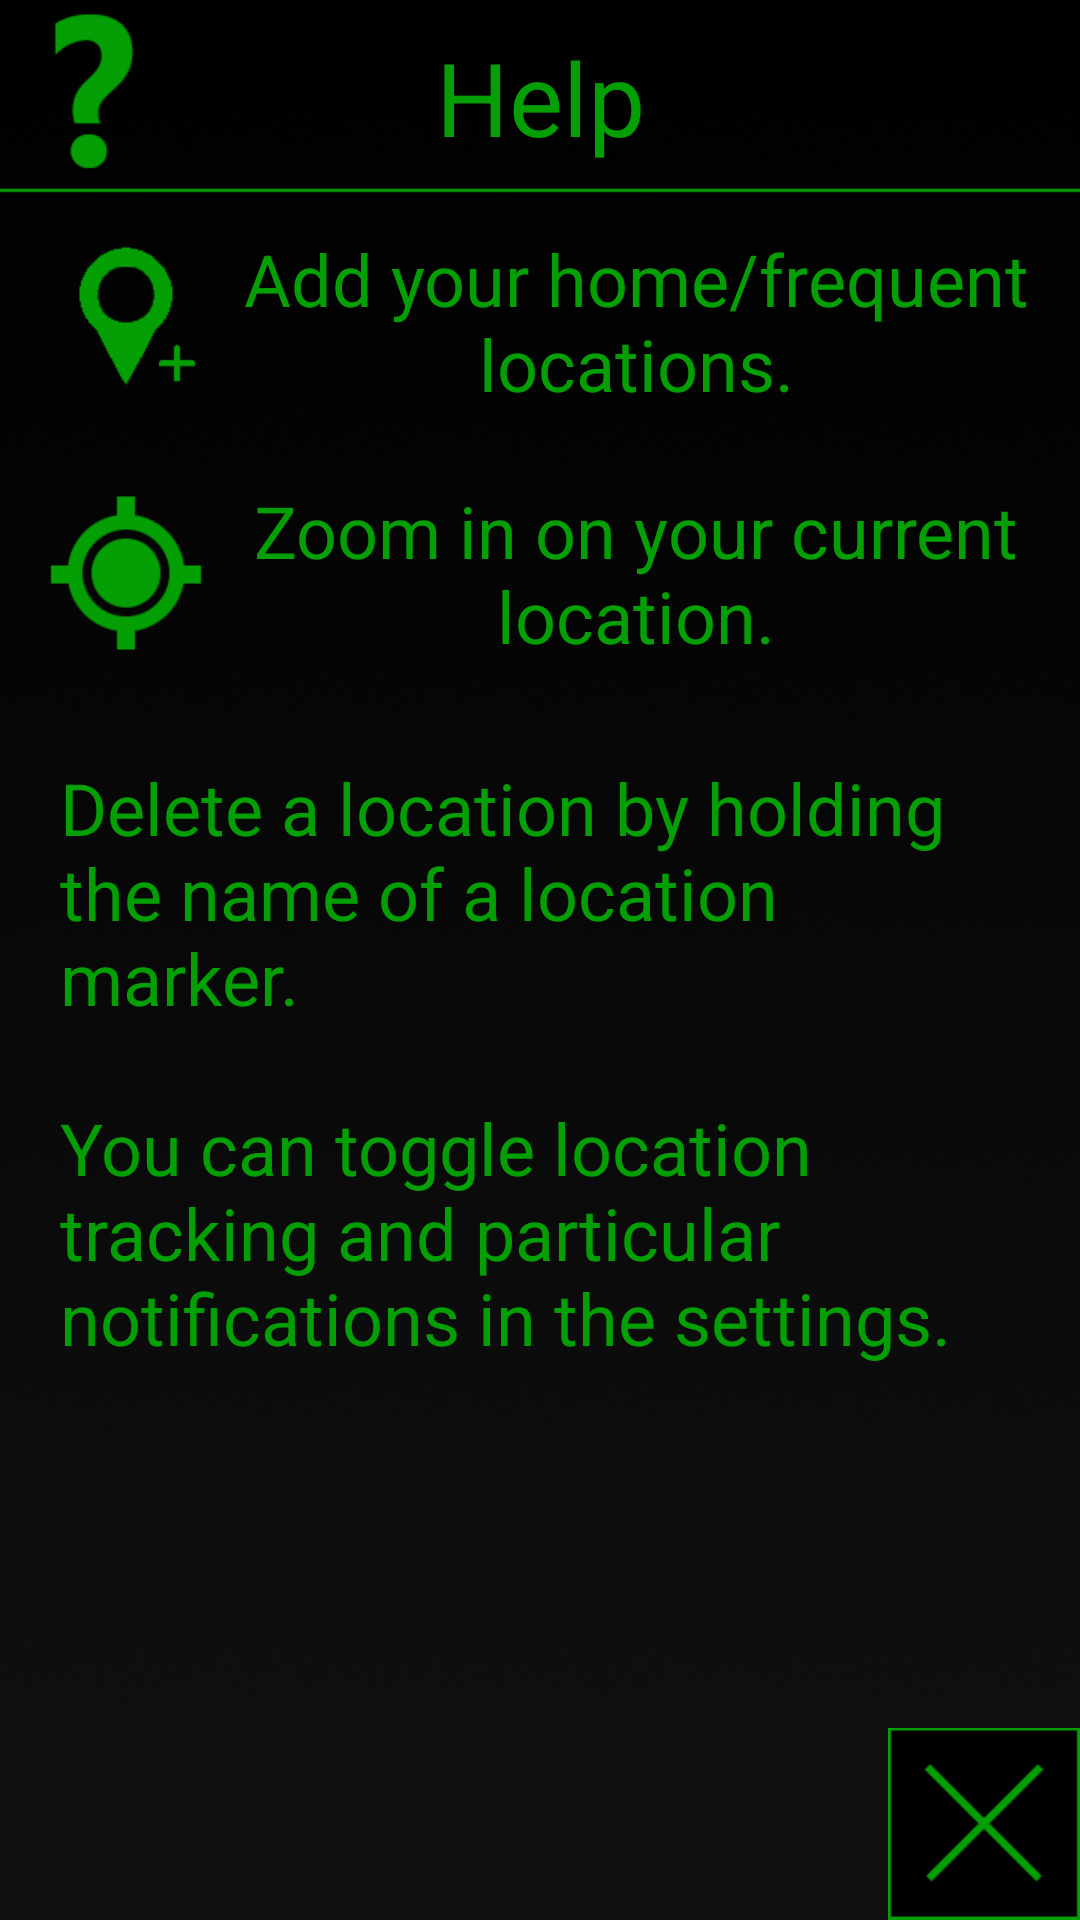

Locate icon controls on the screen. Image size 1080×1920, boxes as (x1, y1, x2, y2).
add location: (79, 247, 196, 385)
cross: (888, 1728, 1080, 1920)
get current location: (50, 496, 202, 650)
